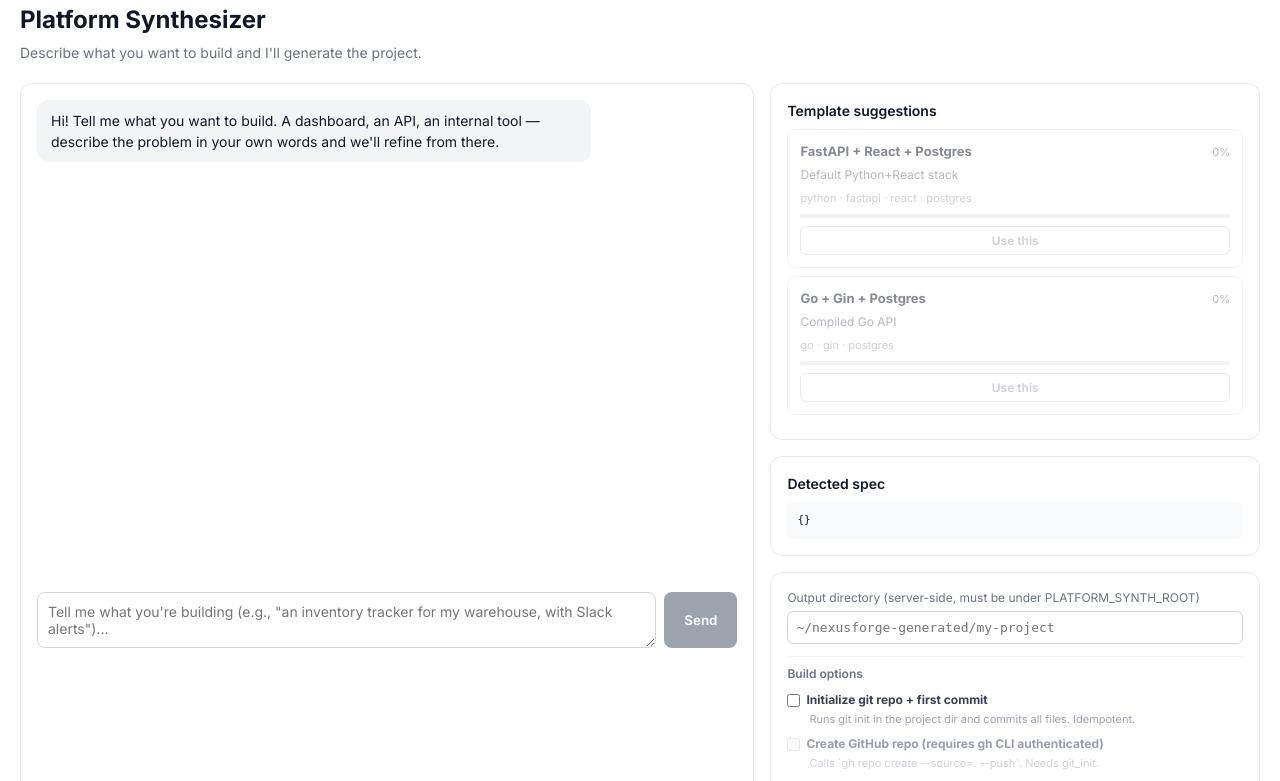
Test: PlatformSynthPage — template selection + build flow › Build sends spec + selected template, renders success card on response
Expected: the text "FastAPI + React + Postgres" is shown, left=800, top=142, right=972, bottom=162
// Chat to populate spec.
Replace the text in the text box with placeholder "Tell me what you're building" with "inventory tracker" at (347, 620), box left=37, top=592, right=656, bottom=648
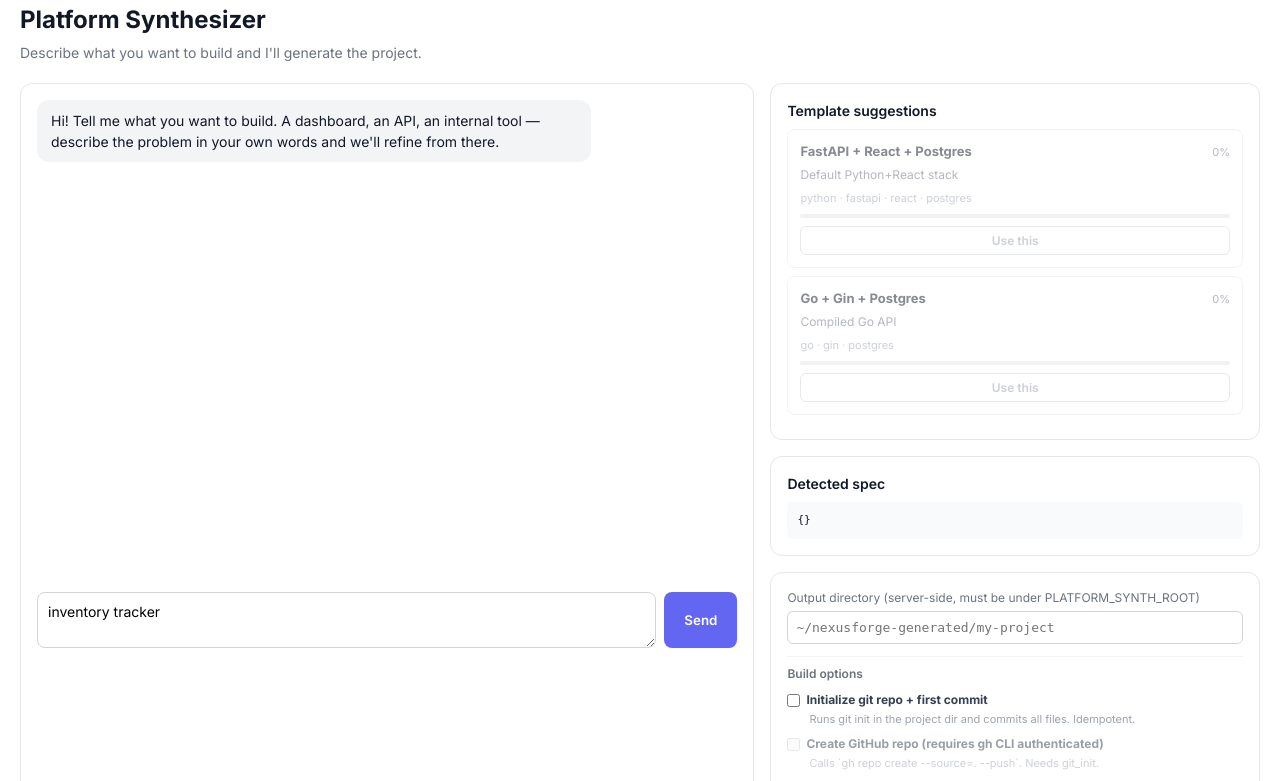
Click the button "Send" at (701, 620), box left=664, top=592, right=737, bottom=648
(page scrolled)
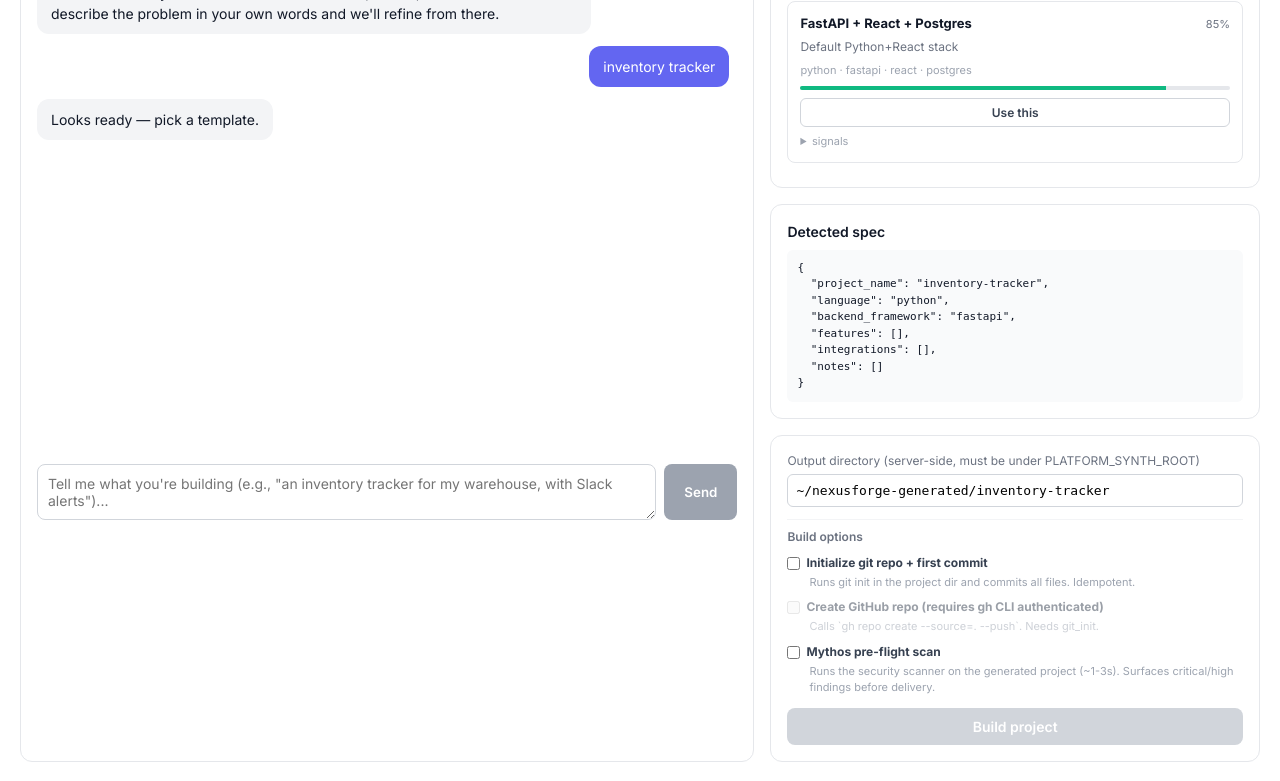
Expected: the text "85%" is shown, left=1206, top=16, right=1230, bottom=32
// Click "Use this" on the template.
Click the button "Use this" at (1015, 112), box left=800, top=98, right=1230, bottom=127
(page scrolled)
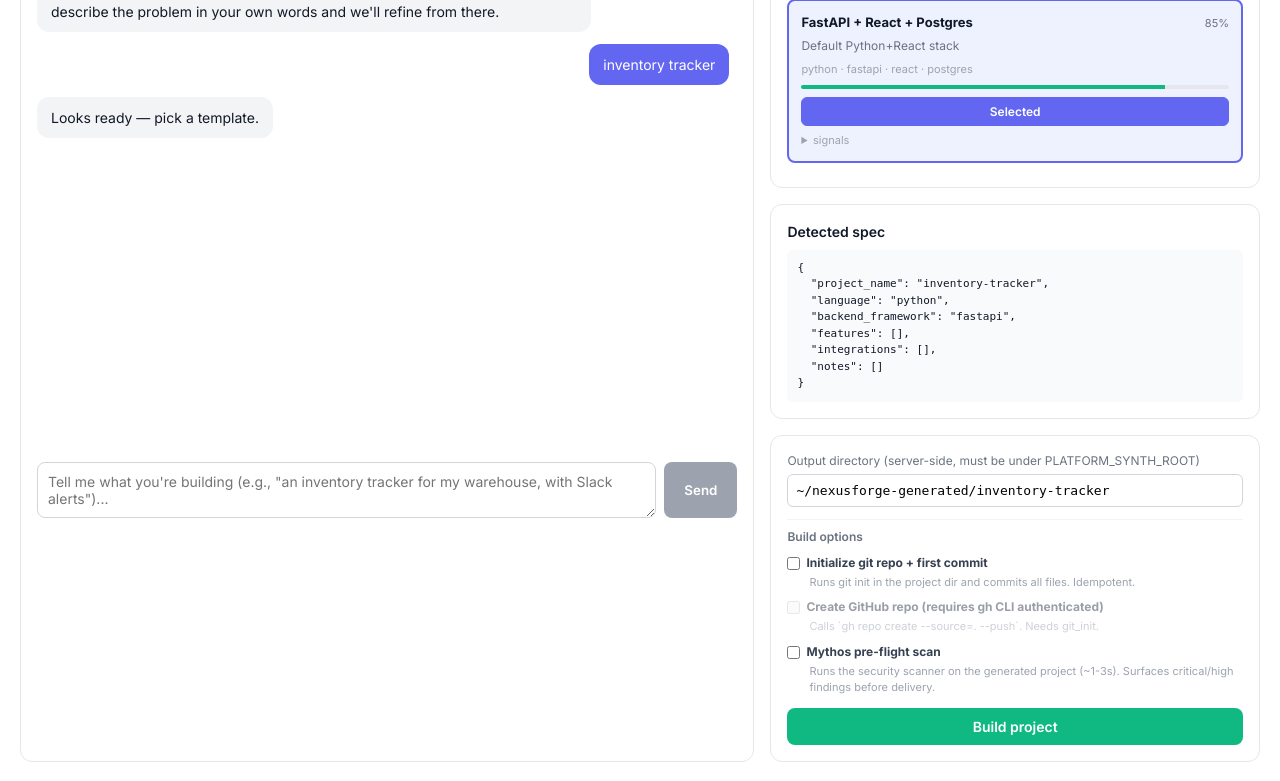
Expected: the button "Selected" is shown, left=801, top=97, right=1229, bottom=126
Expected: the button "Build project" is enabled
// Click Build → result card appears.
Click the button "Build project" at (1015, 726), box left=787, top=708, right=1243, bottom=744
(page scrolled)
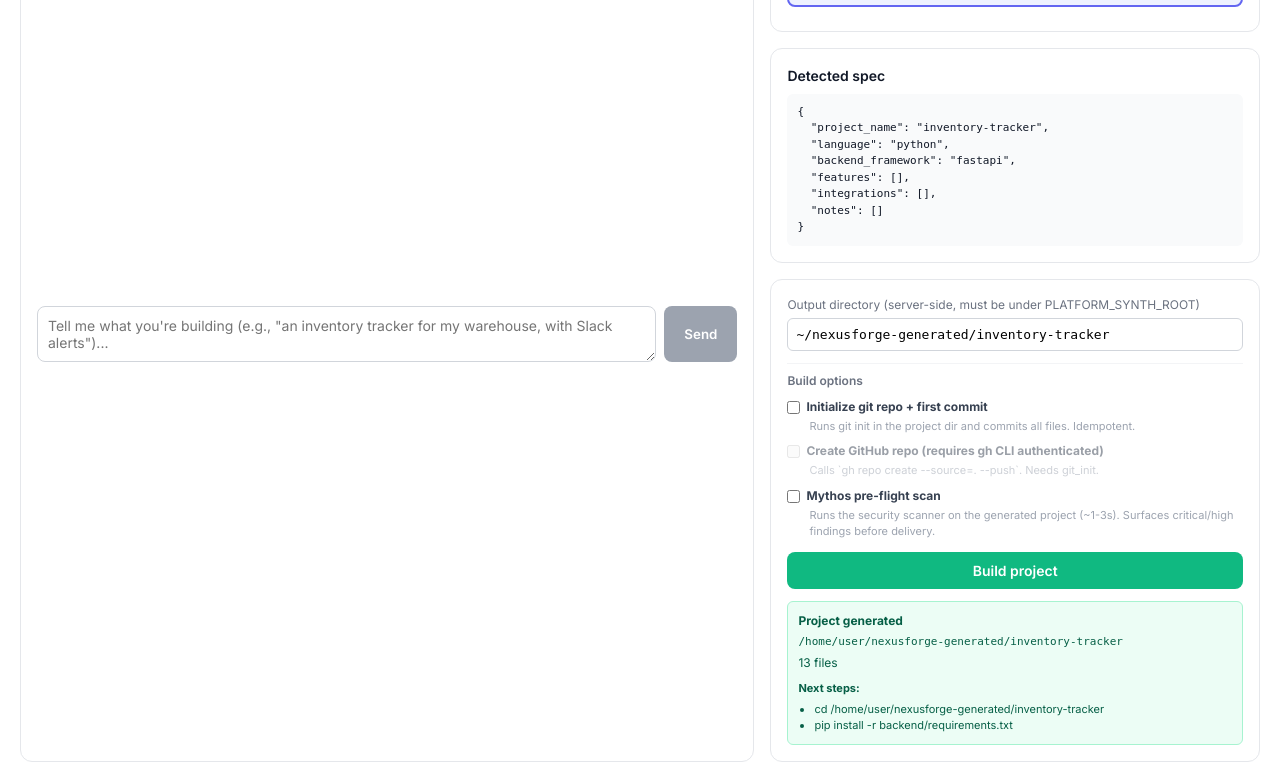
Expected: the text "Project generated" is shown, left=798, top=612, right=903, bottom=628
Expected: the text "/home/user/nexusforge-generated/inventory-tracker" is shown, left=798, top=634, right=1123, bottom=648
Expected: the text "13 files" is shown, left=798, top=655, right=838, bottom=670
